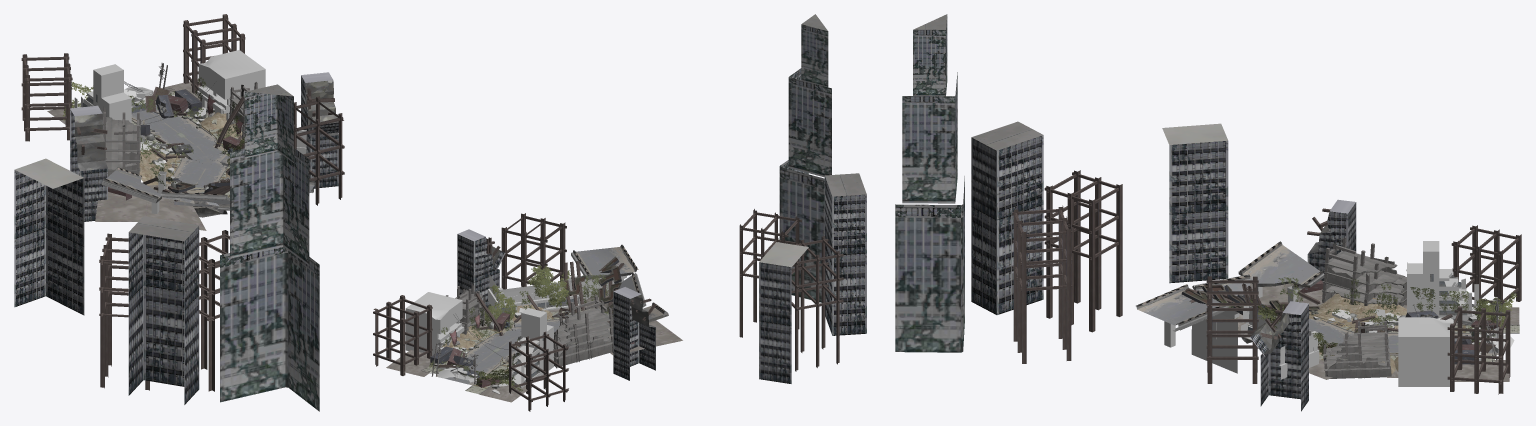
Rendered from Load.fbx.
The picture shows the model from 3 angles, left to right: view 1: azimuth 30°, elevation 25°; view 2: azimuth 150°, elevation 25°; view 3: azimuth 270°, elevation 25°; orthographic projection. The views are drawn at different scales.
Parts seen in each view (by area): view 1: D1yuanjianzu, D1jianzu01, D1malulumian, D1malu, D1dadibiao, D1jianzu02, D1maluyuanlu01, D1malunitu01, D1cao, D1suishi, D1guanggaozi, D1renxingdao (+1 smaller); view 2: D1yuanjianzu, D1jianzu01, D1jianzu02, D1malu, D1maluyuanlu01, D1dadibiao, D1malulumian, D1guanggaozi, D1cao, shuye1 (1), D1renxingdao, D1suishi (+3 smaller); view 3: D1yuanjianzu, D1jianzu01, D1jianzu02, D1maluyuanlu01, D1dadibiao, D1malu, D1cao, D1malunitu01, D1guanggaozi, D1malulumian, D1suishi, shuye1.
Part boxes in pixels (x1,y1,x2,y2): D1yuanjianzu: (14, 14, 344, 411); D1jianzu01: (74, 50, 306, 213); D1malulumian: (131, 97, 229, 192); D1malu: (108, 63, 243, 200); D1dadibiao: (47, 79, 229, 230); D1jianzu02: (103, 82, 257, 176); D1maluyuanlu01: (101, 167, 315, 217); D1malunitu01: (139, 112, 243, 185); D1cao: (129, 77, 242, 197); D1suishi: (72, 87, 214, 178); D1guanggaozi: (153, 143, 244, 201); D1renxingdao: (131, 92, 238, 197); D1yuanjianzu: (373, 14, 866, 411); D1jianzu01: (405, 274, 626, 388); D1jianzu02: (446, 284, 613, 368); D1malu: (421, 293, 634, 387); D1maluyuanlu01: (571, 244, 668, 325); D1dadibiao: (386, 290, 682, 402); D1malulumian: (436, 319, 565, 385); D1guanggaozi: (552, 256, 624, 323); D1cao: (429, 274, 613, 377); shuye1 (1): (527, 265, 570, 307); D1renxingdao: (424, 308, 591, 394); D1suishi: (432, 308, 525, 393); D1yuanjianzu: (895, 14, 1521, 411); D1jianzu01: (1164, 241, 1482, 386); D1jianzu02: (1322, 237, 1407, 378); D1maluyuanlu01: (1136, 241, 1324, 343); D1dadibiao: (1234, 283, 1519, 381); D1malu: (1293, 280, 1502, 364); D1cao: (1215, 277, 1498, 353); D1malunitu01: (1309, 293, 1406, 374); D1guanggaozi: (1181, 283, 1320, 315); D1malulumian: (1309, 318, 1498, 354); D1suishi: (1313, 309, 1514, 360); shuye1: (1472, 291, 1516, 327).
Size of the model in its own units: 162 by 142 by 248.
